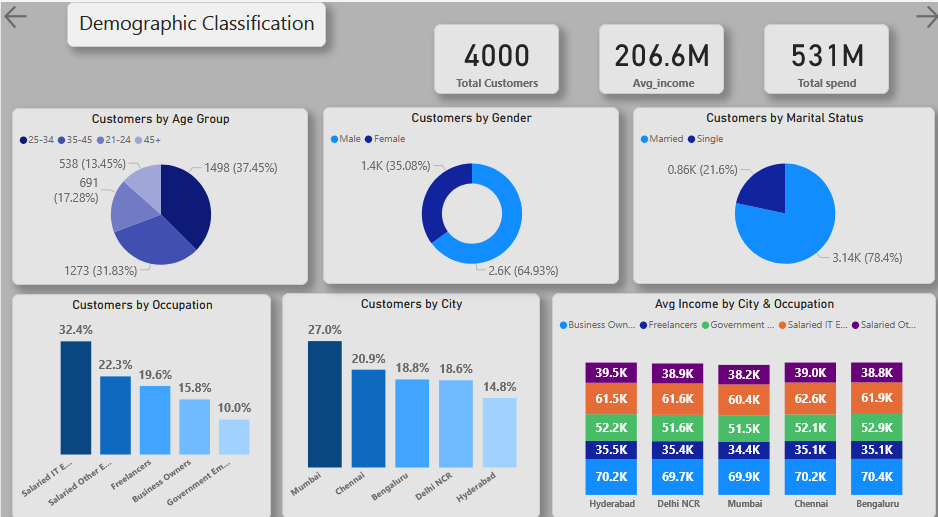

The page's visual inventory and layout, read from the dashboard file:
{"tool":"powerbi","page":{"name":"Demographic View","canvas":[1280,720],"ordinal":1},"visuals":[{"type":"card","fields":{"Values":["Count(dim_customers)"]},"box":[586.8,29.8,170.1,95],"z":0},{"type":"textbox","box":[89.3,0,351.5,60.9],"z":1000},{"type":"pieChart","title":"Customers by Age Group","fields":{"Category":["dim_customers.age_group"],"Y":["Count(dim_customers)"]},"box":[15.6,143.1,401.1,239.5],"z":2000},{"type":"columnChart","title":"Customers by City","fields":{"Category":["dim_customers.city"],"Y":["Divide(CountNonNull(dim_customers.customer_id), ScopedEval(CountNonNull(dim_customers.customer_id), []))"]},"box":[381.1,395.1,349.8,306.1],"z":3000},{"type":"columnChart","title":"Customers by Occupation","fields":{"Category":["dim_customers.occupation"],"Y":["Divide(CountNonNull(dim_customers.customer_id), ScopedEval(CountNonNull(dim_customers.customer_id), []))"]},"box":[15.6,395.4,351.5,306.1],"z":4000},{"type":"donutChart","title":"Customers by Gender","fields":{"Category":["dim_customers.gender"],"Y":["Count(dim_customers)"]},"box":[436.5,143,401.1,239.5],"z":5000},{"type":"pieChart","title":"Customers by Marital Status","fields":{"Category":["dim_customers.marital status"],"Y":["Count(dim_customers)"]},"box":[857.5,143,409.6,239.5],"z":6000},{"type":"card","fields":{"Values":["Sum(dim_customers.avg_income)"]},"box":[810.7,29.8,170.1,95],"z":7000},{"type":"card","fields":{"Values":["Sum(fact_spends.spend)"]},"box":[1034.6,29.8,170.1,95],"z":8000},{"type":"actionButton","box":[0,0,54.7,40.6],"z":9000},{"type":"actionButton","box":[1235.4,0,45.3,40.6],"z":10000},{"type":"columnChart","title":"Avg Income by City & Occupation","fields":{"Category":["dim_customers.city"],"Y":["Avg(dim_customers.avg_income)"],"Series":["dim_customers.occupation"]},"box":[746.6,395.1,520.1,306.1],"z":11000}]}

Visuals, with their boxes in screenshot pixels (x1, y1, x2, y2), scaled from the page's 1280x720 canvas onto the 938x517 screenshot:
card - Count(dim_customers): bbox=[430, 21, 555, 90]
textbox: bbox=[65, 0, 323, 44]
"Customers by Age Group" pieChart: bbox=[11, 103, 305, 275]
"Customers by City" columnChart: bbox=[279, 284, 536, 504]
"Customers by Occupation" columnChart: bbox=[11, 284, 269, 504]
"Customers by Gender" donutChart: bbox=[320, 103, 614, 275]
"Customers by Marital Status" pieChart: bbox=[628, 103, 929, 275]
card - Sum(dim_customers.avg_income): bbox=[594, 21, 719, 90]
card - Sum(fact_spends.spend): bbox=[758, 21, 883, 90]
actionButton: bbox=[0, 0, 40, 29]
actionButton: bbox=[905, 0, 937, 29]
"Avg Income by City & Occupation" columnChart: bbox=[547, 284, 928, 504]
